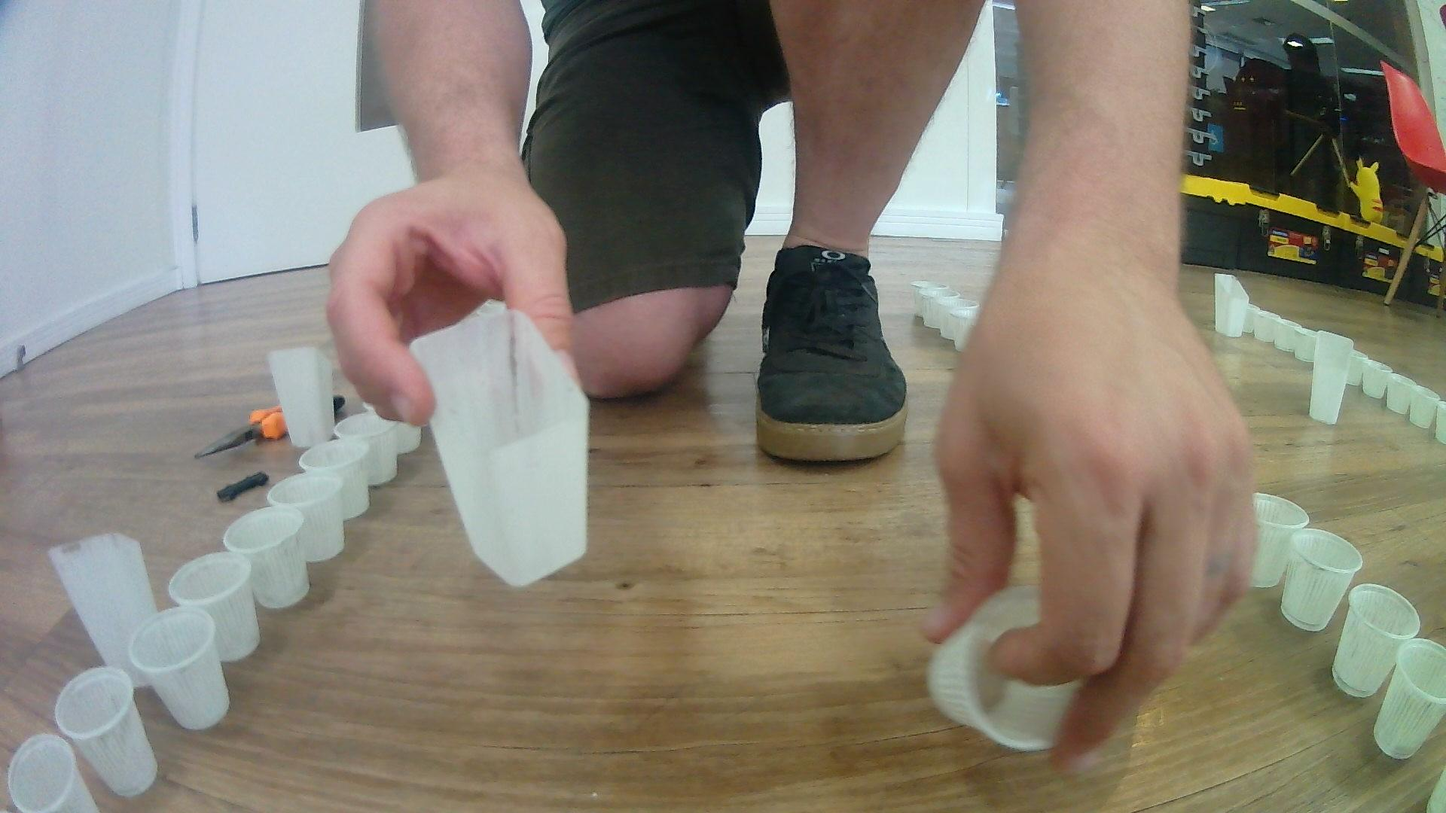erva_daninha: (409, 299, 591, 588), (47, 531, 163, 690), (267, 346, 336, 451), (1308, 329, 1356, 426), (1215, 273, 1249, 338)
planta: (923, 586, 1096, 753), (54, 665, 158, 798), (127, 607, 230, 732), (169, 550, 261, 663), (1331, 583, 1421, 698), (222, 506, 312, 610), (1373, 638, 1446, 760), (1280, 528, 1364, 633), (5, 733, 101, 813), (265, 471, 346, 563), (1249, 492, 1312, 589), (298, 439, 370, 522), (331, 416, 399, 487), (381, 414, 423, 454), (938, 297, 976, 341), (923, 287, 958, 330), (1383, 372, 1418, 414), (953, 306, 982, 352), (1362, 358, 1393, 399), (1409, 387, 1438, 430), (1242, 303, 1273, 343), (1272, 315, 1297, 353), (911, 279, 936, 316), (1295, 324, 1318, 363), (1347, 351, 1365, 388), (1434, 402, 1446, 446)
